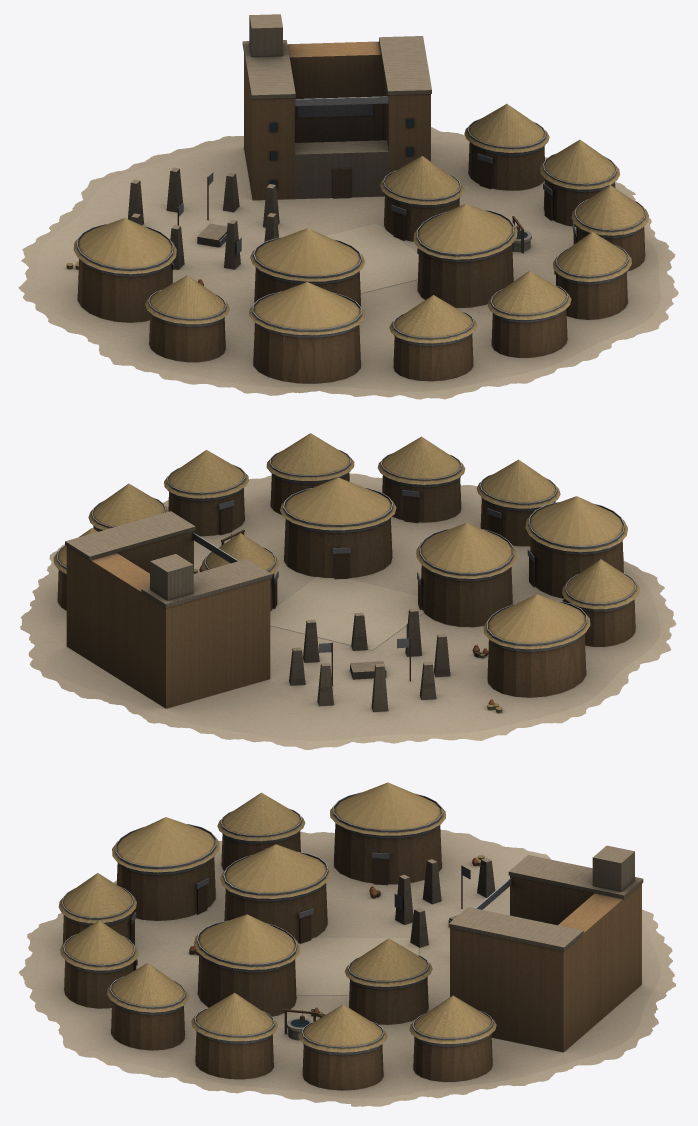
The model's file is bronze-town-medium-b-maghreb.glb.
3 renders of one model, top to bottom at view 1: azimuth 30°, elevation 25°; view 2: azimuth 150°, elevation 25°; view 3: azimuth 270°, elevation 25°, orthographic.
Visible parts, largest first — view 1: LOD0; view 2: LOD0; view 3: LOD0.
Boxes of the visible parts, x1,y1,x2,y2 form: LOD0: [18, 14, 678, 399]; LOD0: [20, 433, 676, 749]; LOD0: [19, 782, 675, 1106].
Size of what is drawn, in the model's own units: 5.98 by 1.34 by 5.92.
3 materials, 3 textured.
